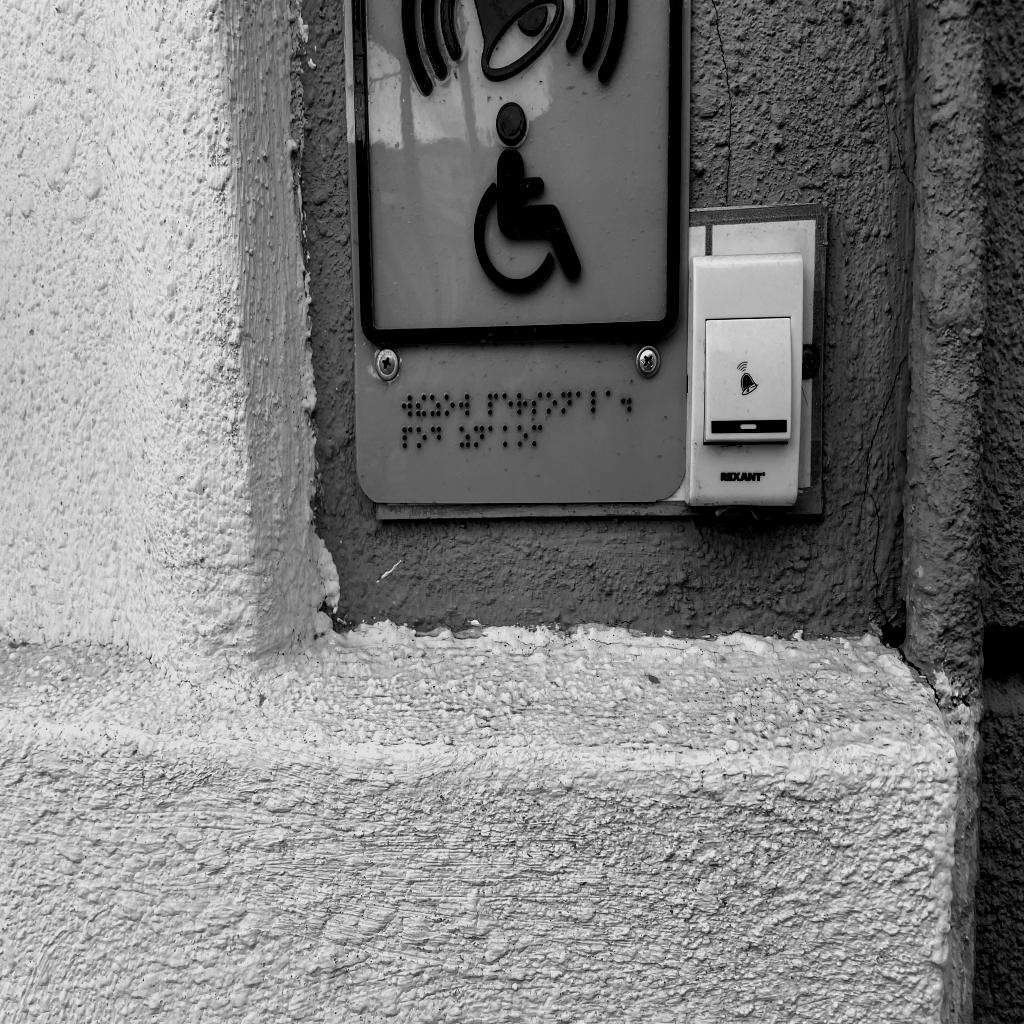_n: (561, 390, 572, 414), (474, 425, 485, 448)
a: (606, 389, 617, 412), (488, 425, 499, 448), (576, 391, 587, 413)
d: (430, 425, 441, 449)
e: (502, 392, 513, 415)
ii: (415, 394, 427, 417)
k: (503, 425, 514, 448)
l: (590, 390, 602, 413)
m: (532, 424, 543, 447)
o: (416, 425, 427, 449), (444, 394, 455, 417), (546, 391, 557, 414), (517, 424, 528, 447)
p: (487, 392, 498, 415), (402, 426, 413, 449)
r: (516, 392, 528, 415)
s: (531, 391, 542, 415)
tochka: (621, 390, 632, 412)
v: (458, 393, 470, 416), (401, 394, 412, 417)
z: (429, 394, 441, 417), (459, 425, 470, 448)
